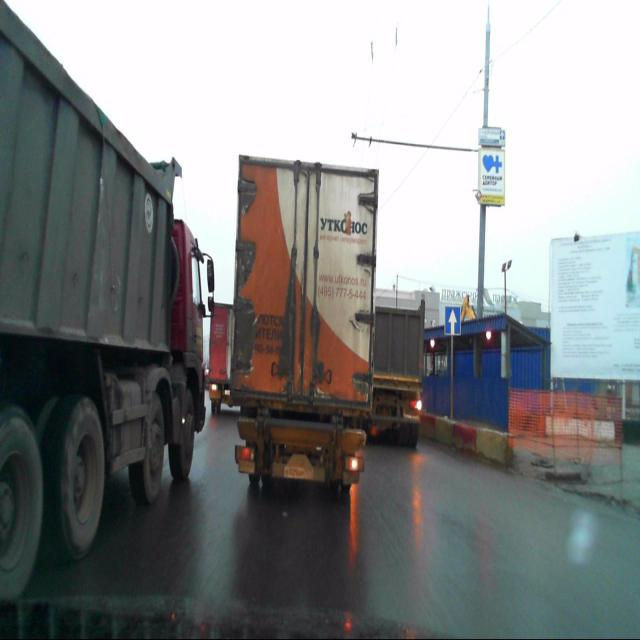road sign: (444, 306, 461, 335)
